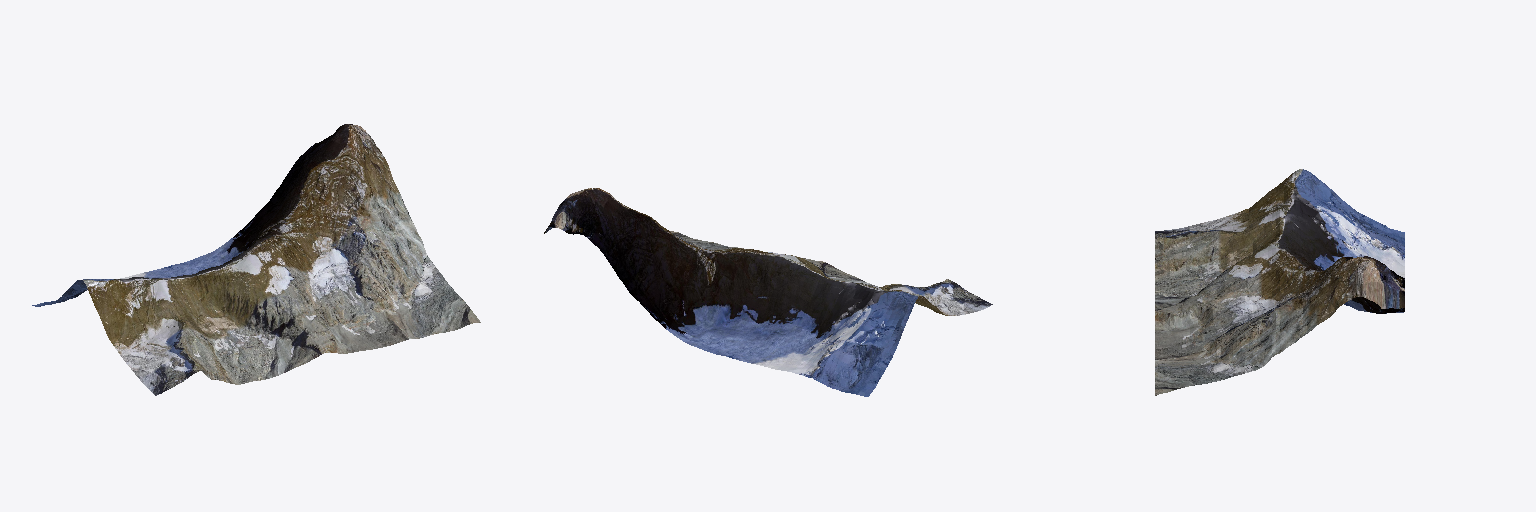
The picture shows the model from 3 angles: view 1: azimuth 30°, elevation 25°; view 2: azimuth 150°, elevation 25°; view 3: azimuth 270°, elevation 25°; orthographic projection.
Visible parts, largest first — view 1: EXPORT_GOOGLE_SAT_WM.009; view 2: EXPORT_GOOGLE_SAT_WM.009; view 3: EXPORT_GOOGLE_SAT_WM.009.
Boxes of the visible parts, x1=… form: EXPORT_GOOGLE_SAT_WM.009: x1=32, y1=124, x2=480, y2=395; EXPORT_GOOGLE_SAT_WM.009: x1=544, y1=188, x2=992, y2=396; EXPORT_GOOGLE_SAT_WM.009: x1=1155, y1=169, x2=1404, y2=395.
Size of the model in its own units: 4562 by 1736 by 3041.
Materials: 1 (1 with a texture image).